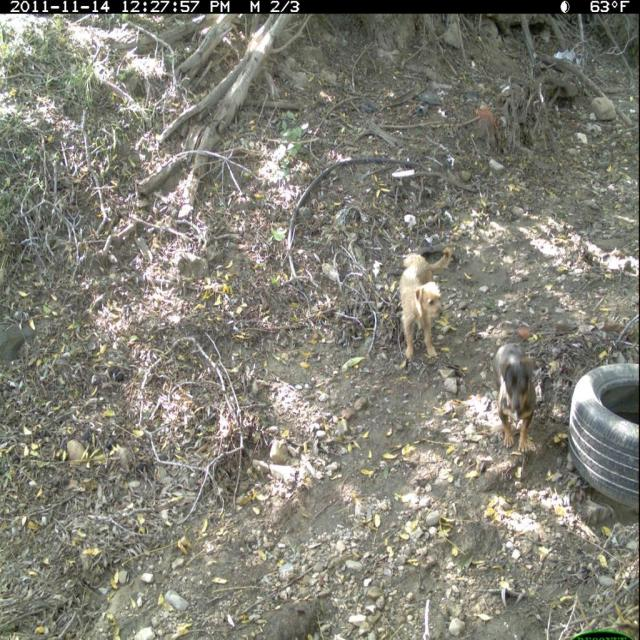dog: (395, 236, 454, 378), (495, 328, 549, 470)
